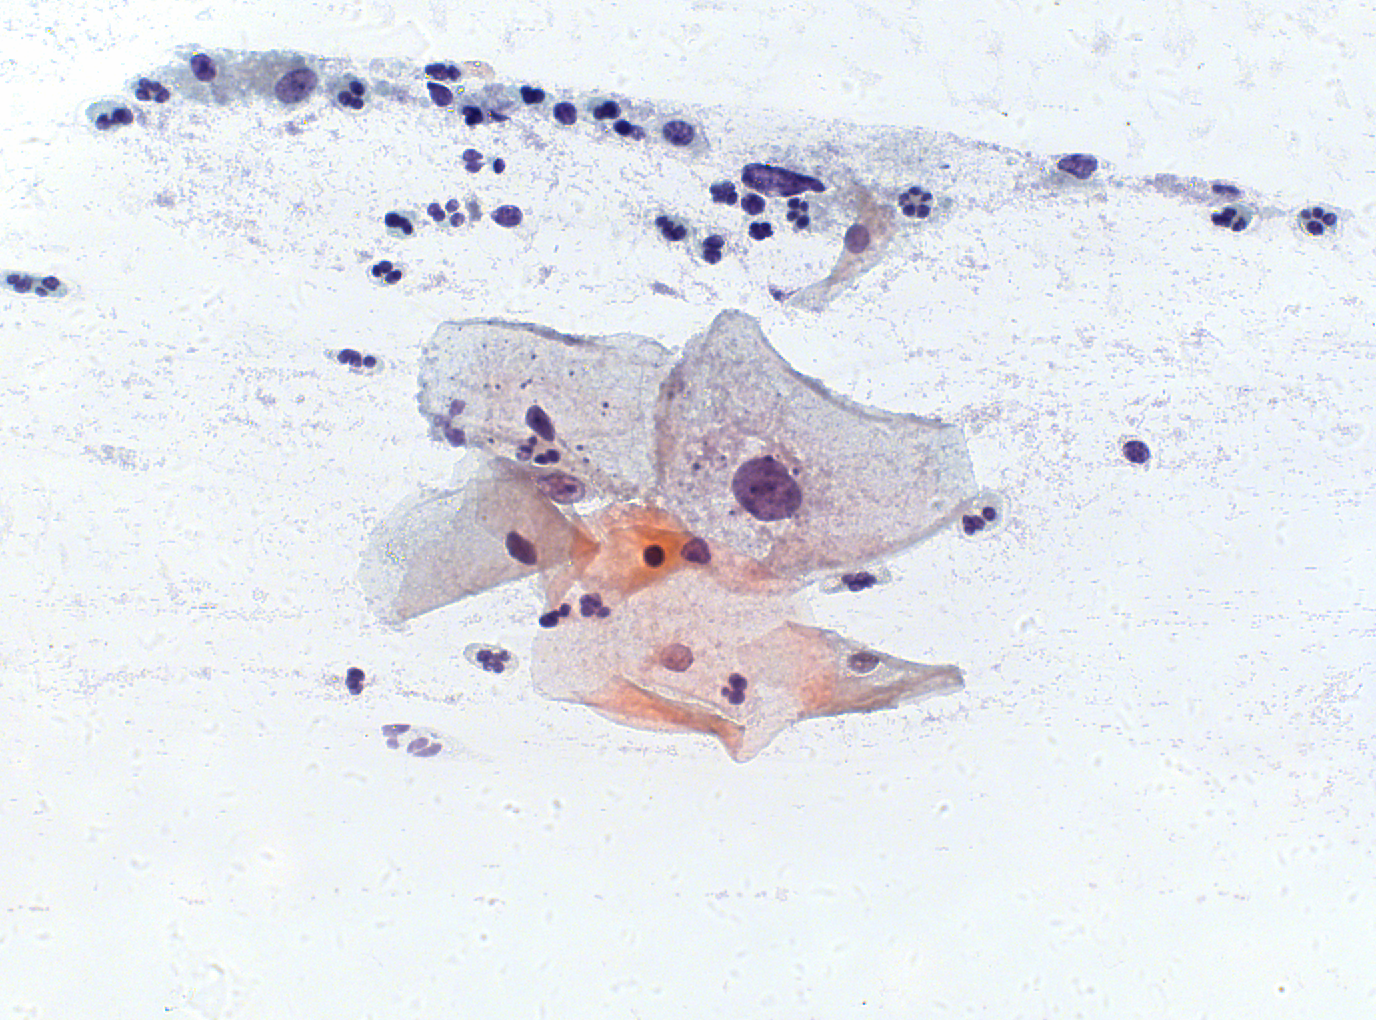Abn: (729, 453, 803, 522)
